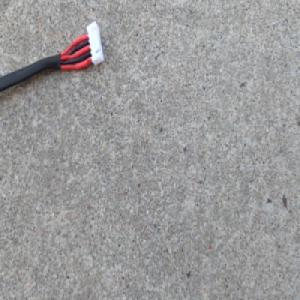Wire: (0, 17, 106, 97)
